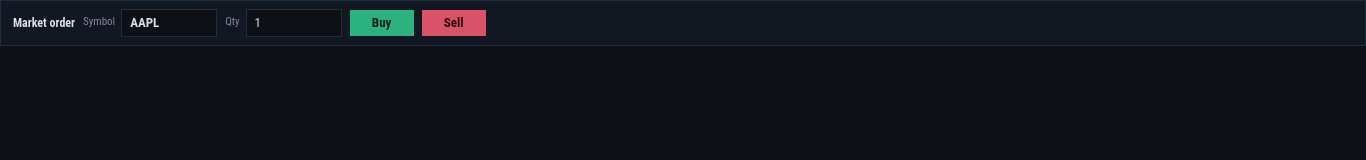
Test: TradeBar › submits trades and shows {detail} errors in trade-error
The width and height of the screenshot is (1366, 160).
Replace the text in the number field with test id "trade-quantity-input" with "2". click: coordinates (294, 23)
box: [246,9,342,36]
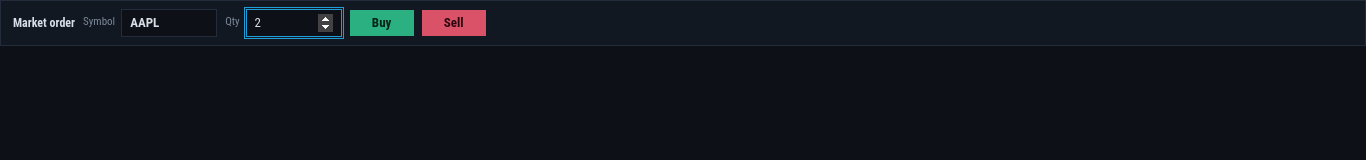
Click the button with test id "trade-buy-button". click: coordinates (382, 23)
box: [350,10,414,36]
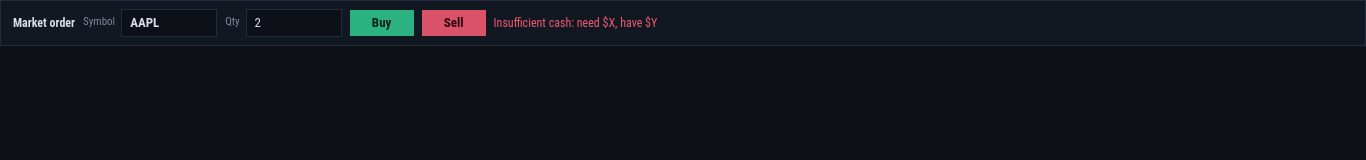
Expected: the message with test id "trade-error" shows "Insufficient cash", [494,16,657,30]
Click the button with test id "trade-sell-button". click: coordinates (454, 23)
box: [422,10,486,36]
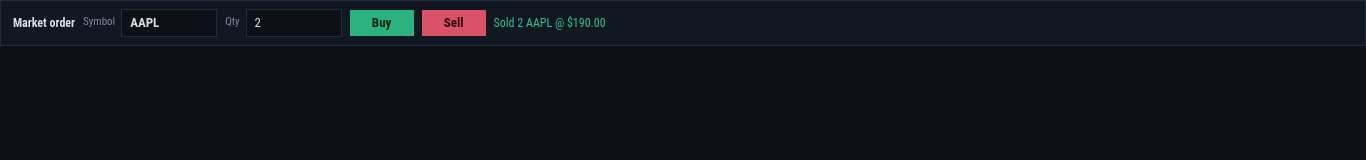
Expected: the message with test id "trade-error" is gone
